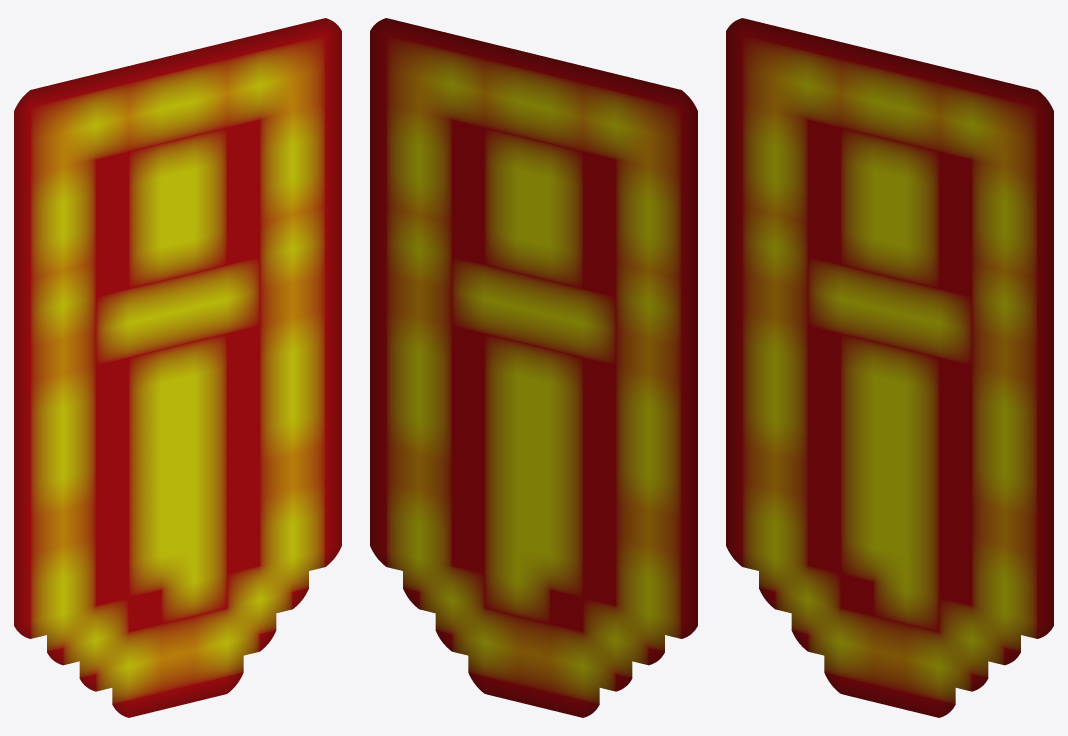
Rendered from Fortress_Flag_B_01.fbx.
3 views of the same model, side by side, from view 1: azimuth 30°, elevation 25°; view 2: azimuth 150°, elevation 25°; view 3: azimuth 330°, elevation 25° (orthographic).
Parts seen in each view (by area): view 1: Fortress_Flag_B_01; view 2: Fortress_Flag_B_01; view 3: Fortress_Flag_B_01.
Part boxes in pixels (box(x1,y1,x2,y2)): Fortress_Flag_B_01: box(14, 18, 341, 717); Fortress_Flag_B_01: box(370, 18, 697, 717); Fortress_Flag_B_01: box(726, 18, 1053, 717).
Size of the model in its own units: 62.5 by 119 by 0.
